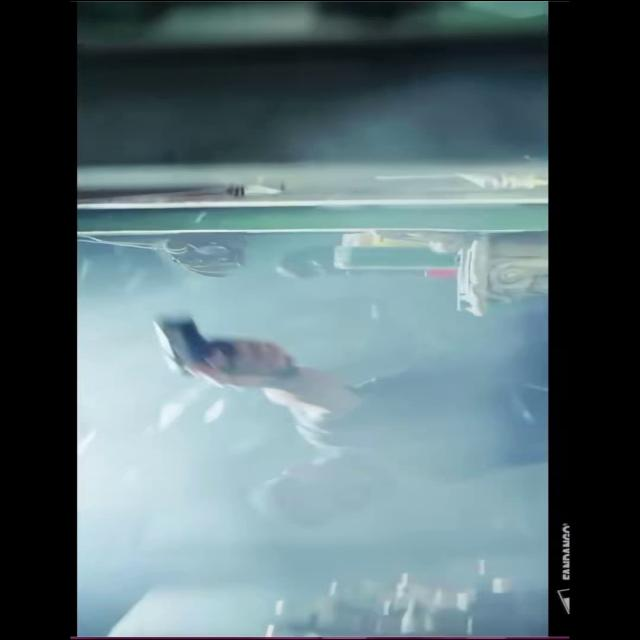weapons: (132, 304, 288, 388)
